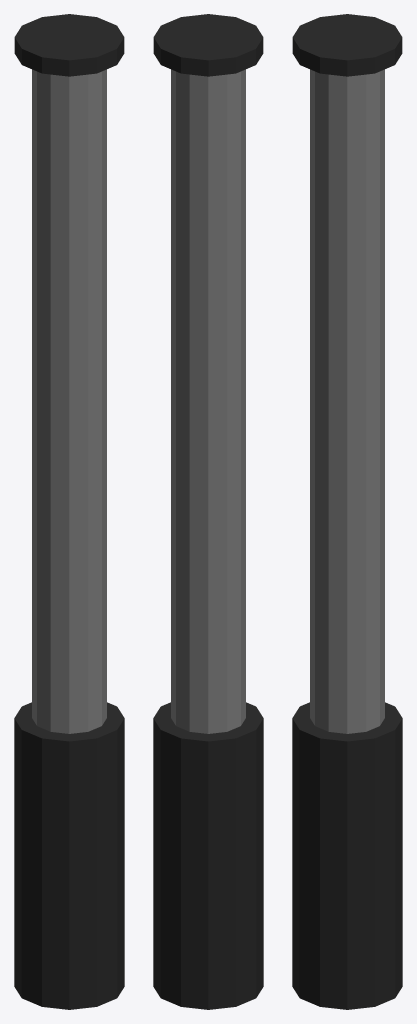
The model's file is Light3.glb.
3 views of the same model, side by side, from view 1: azimuth 90°, elevation 25°; view 2: azimuth 150°, elevation 25°; view 3: azimuth 270°, elevation 25° (orthographic).
Visible parts, largest first — view 1: Cylinder; view 2: Cylinder; view 3: Cylinder.
Part boxes in pixels (x1,y1,x2,y2): Cylinder: (14,14,124,1009); Cylinder: (153,14,263,1009); Cylinder: (292,14,402,1009).
Bounding box in the file's own units: 1 × 9.5 × 1.
1 material, 1 textured.
